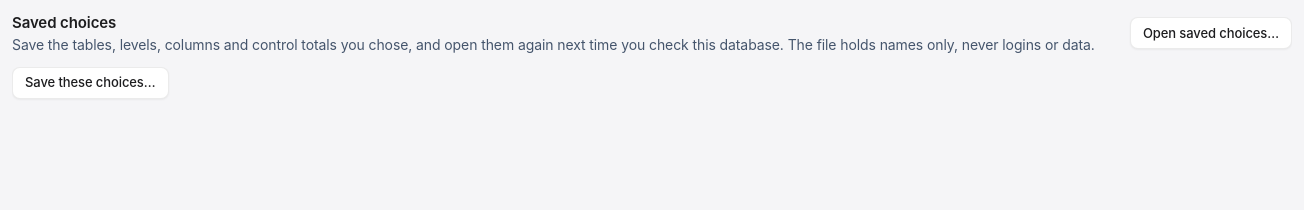
Test: CheckChoicesFile › opens a file, applies it and says what could not be used
The width and height of the screenshot is (1304, 210).
Click the button "Open saved choices…".
click(1211, 33)  # box [1130,17,1292,49]
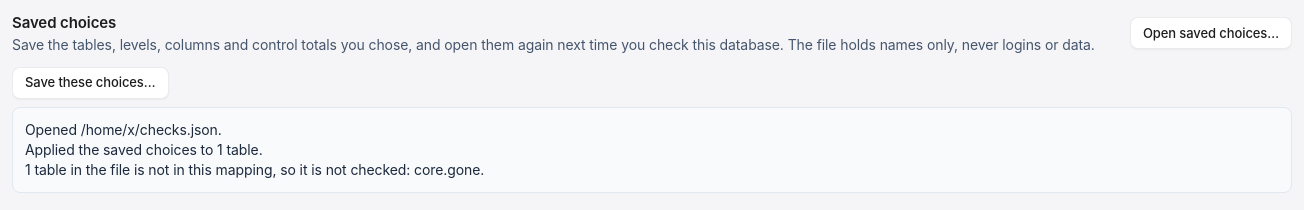
Expected: the message with test id "check-choices-message" shows "Opened /home/x/checks.json.", [25,120,222,138]
Expected: the message with test id "check-choices-message" shows "Applied the saved choices to 1 table.", [25,140,263,158]
Expected: the message with test id "check-choices-message" shows "core.gone", [25,160,484,178]
